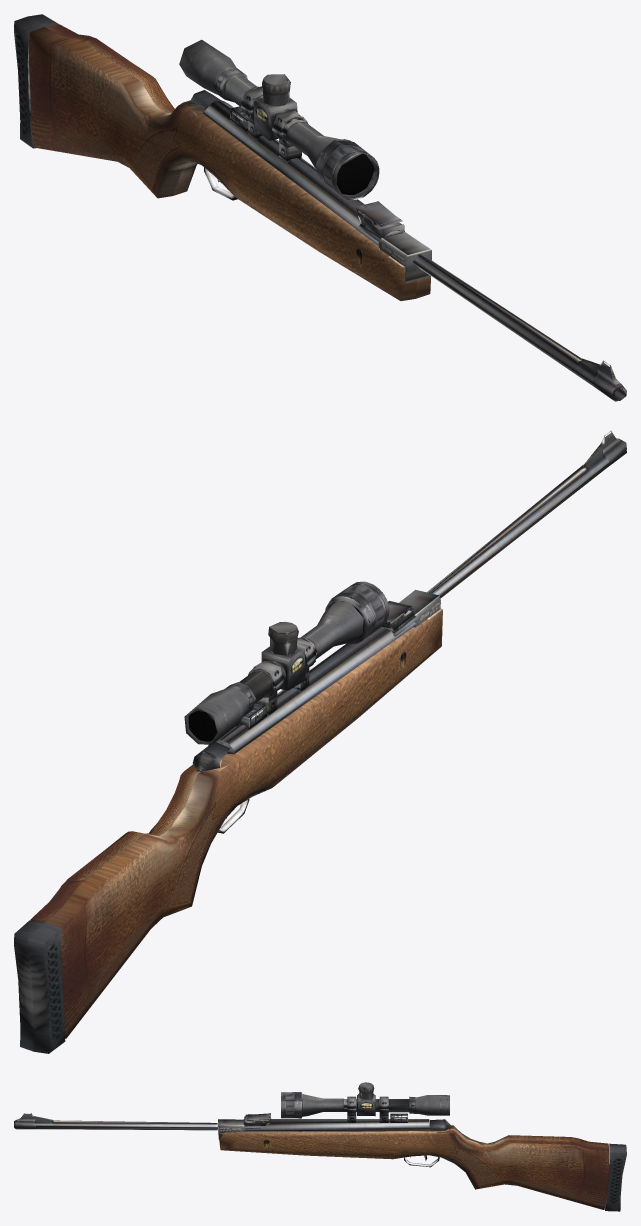
File: sniper.glb
The picture shows the model from 3 angles, top to bottom: view 1: azimuth 30°, elevation 25°; view 2: azimuth 150°, elevation 25°; view 3: azimuth 270°, elevation 25°; orthographic projection. The views are drawn at different scales.
Visible parts, largest first — view 1: v_pnevm_reference; view 2: v_pnevm_reference; view 3: v_pnevm_reference.
Part boxes in pixels (bbox=[...]): v_pnevm_reference: bbox=[14, 14, 626, 401]; v_pnevm_reference: bbox=[14, 430, 626, 1053]; v_pnevm_reference: bbox=[14, 1082, 626, 1211].
Size of the model in its own units: 0.6993 by 3.54 by 15.96.
3 materials, 1 textured.
